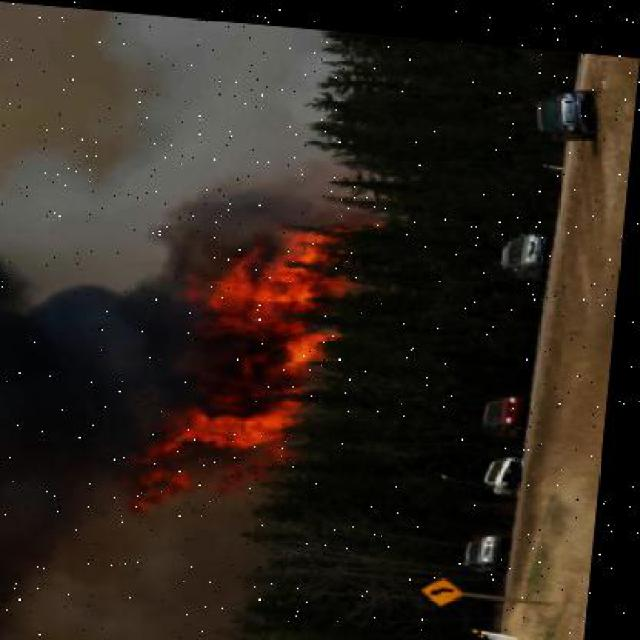fire: (137, 182, 353, 518)
